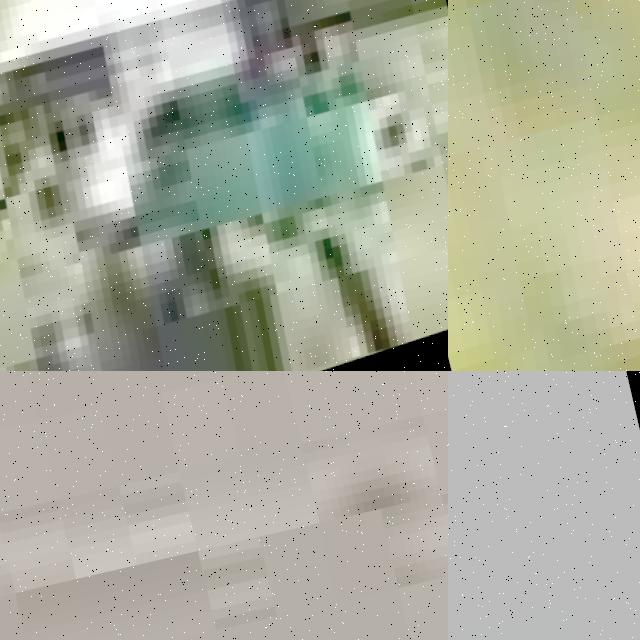0: (0, 0, 448, 371)
drone: (448, 0, 640, 371)
